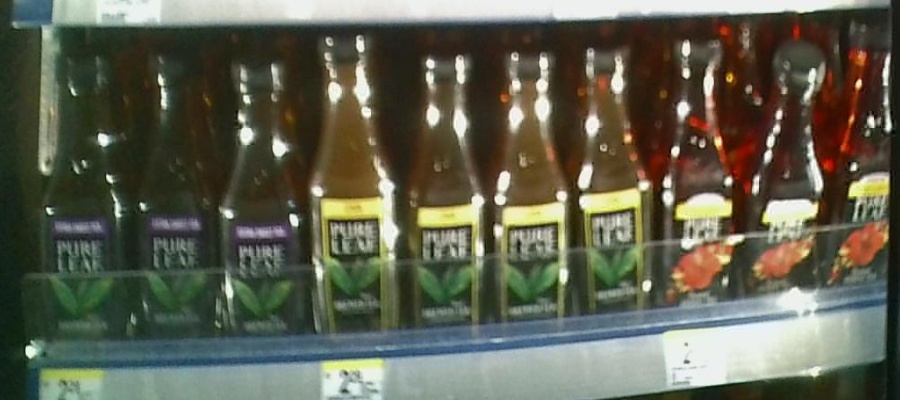bottle: (307, 39, 401, 345), (40, 44, 132, 354), (405, 48, 488, 340), (220, 60, 304, 343), (136, 51, 216, 339), (574, 43, 652, 330), (657, 30, 737, 307), (494, 50, 570, 332), (746, 45, 828, 291), (835, 23, 896, 288)
